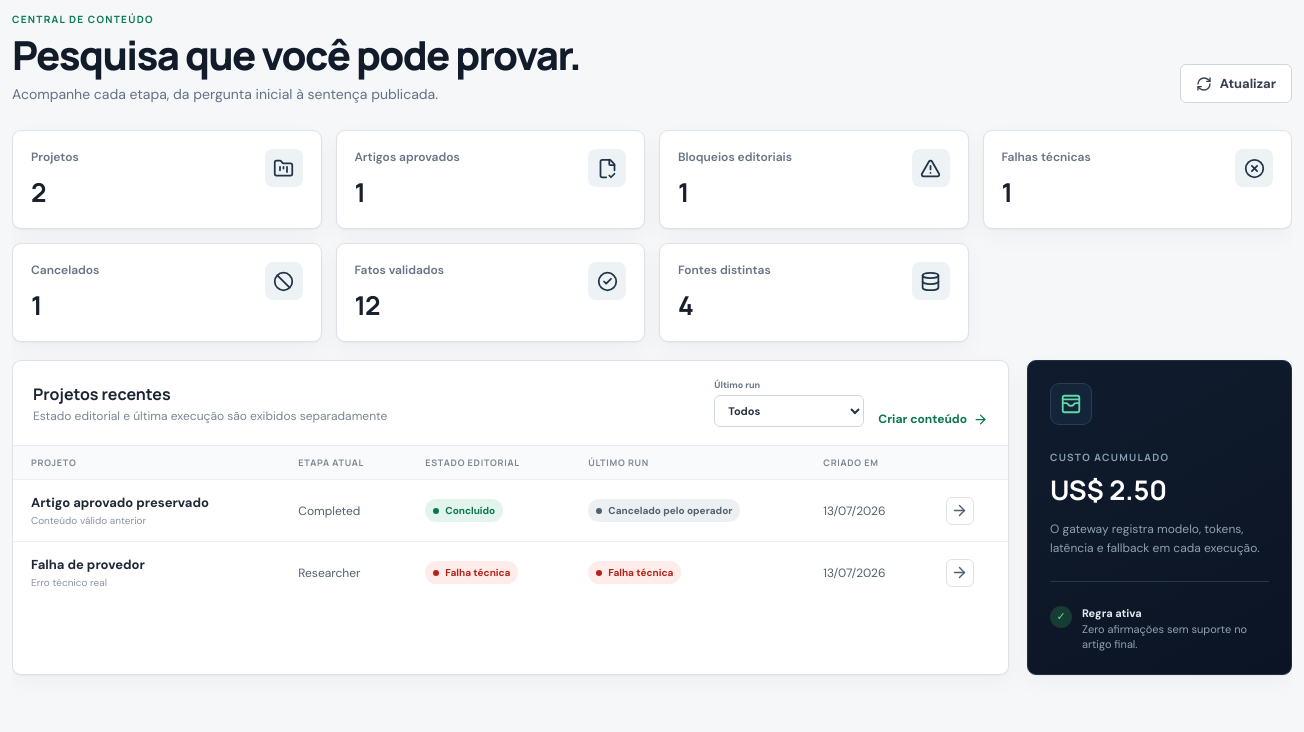
Dashboard cancellation semantics › filters cancelled runs without treating them as failures
The width and height of the screenshot is (1304, 732).
Expected: the text "Artigo aprovado preservado" is shown, [31, 494, 209, 511]
Select "Cancelados" in the dropdown named "Filtrar por último run" at (789, 411), box [714, 395, 864, 427]
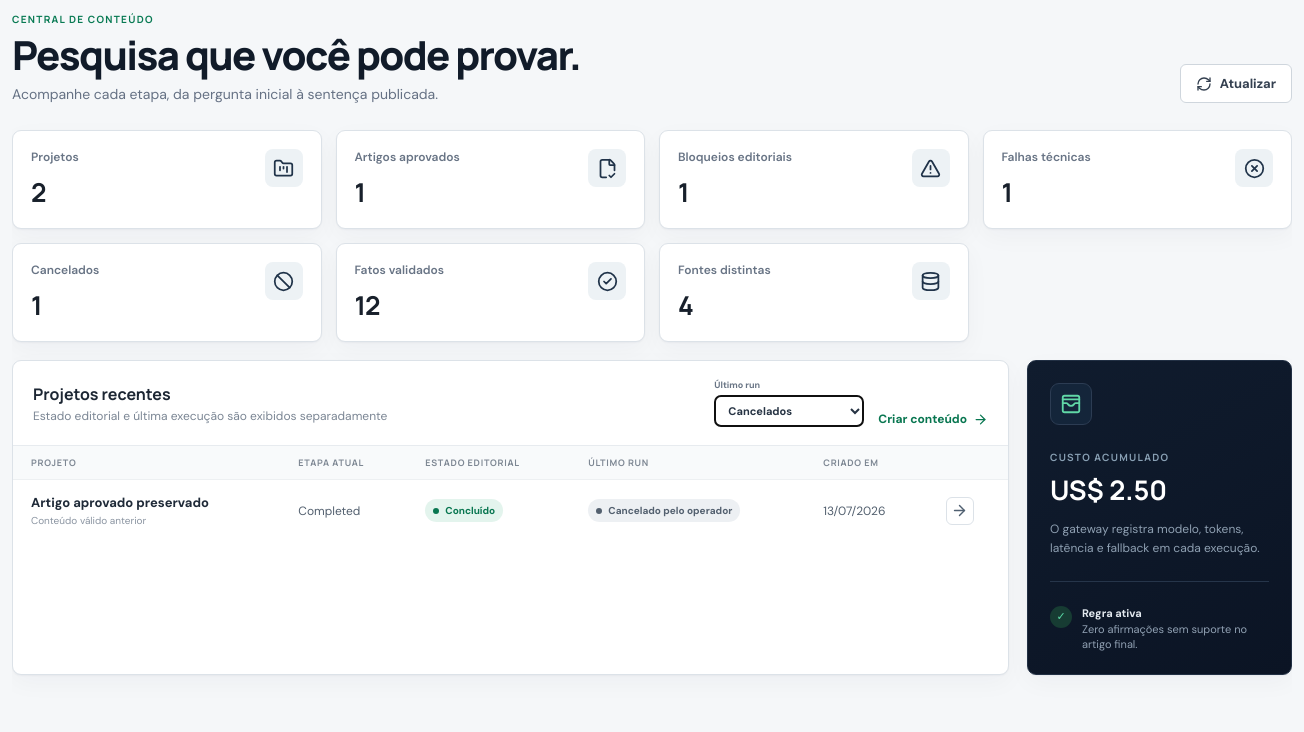
Expected: the text "Artigo aprovado preservado" is shown, [31, 494, 209, 511]
Expected: the text "Falha de provedor" is gone
Select "Falhas técnicas" in the dropdown named "Filtrar por último run" at (789, 411), box [714, 395, 864, 427]
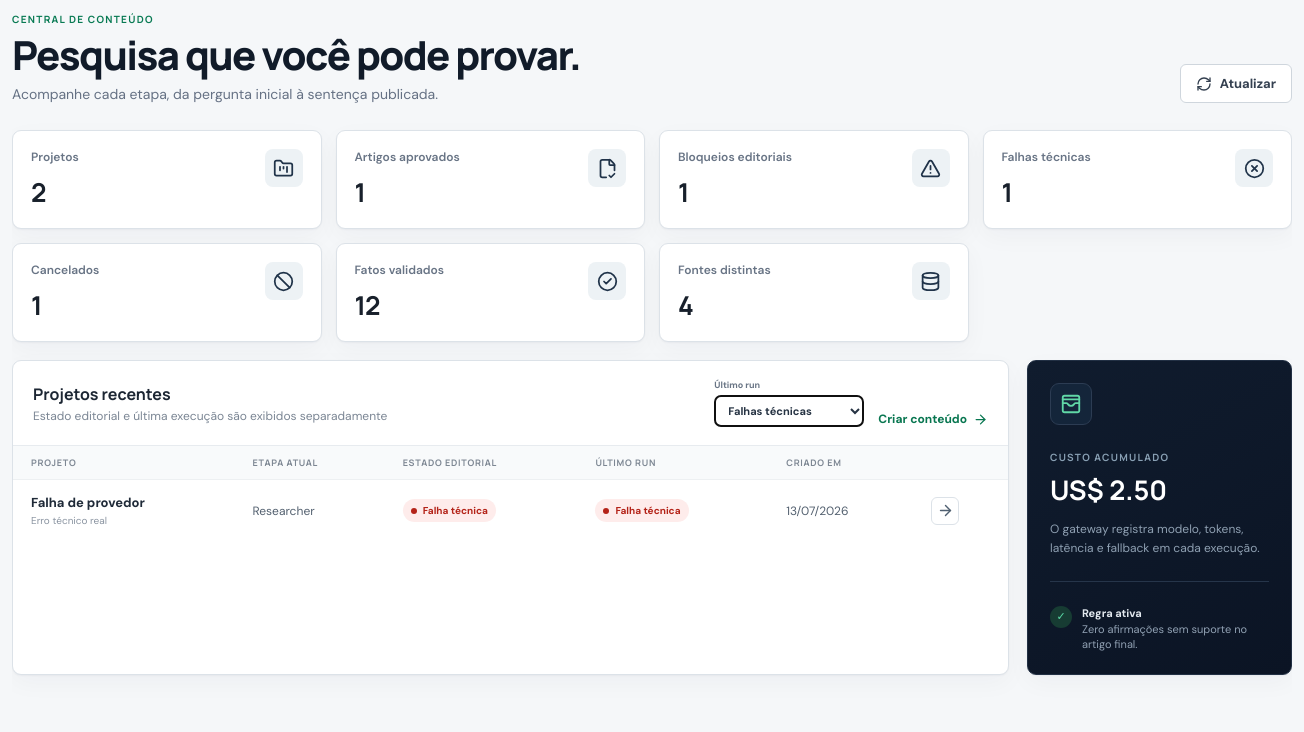
Expected: the text "Falha de provedor" is shown, [31, 494, 145, 511]
Expected: the text "Artigo aprovado preservado" is gone
